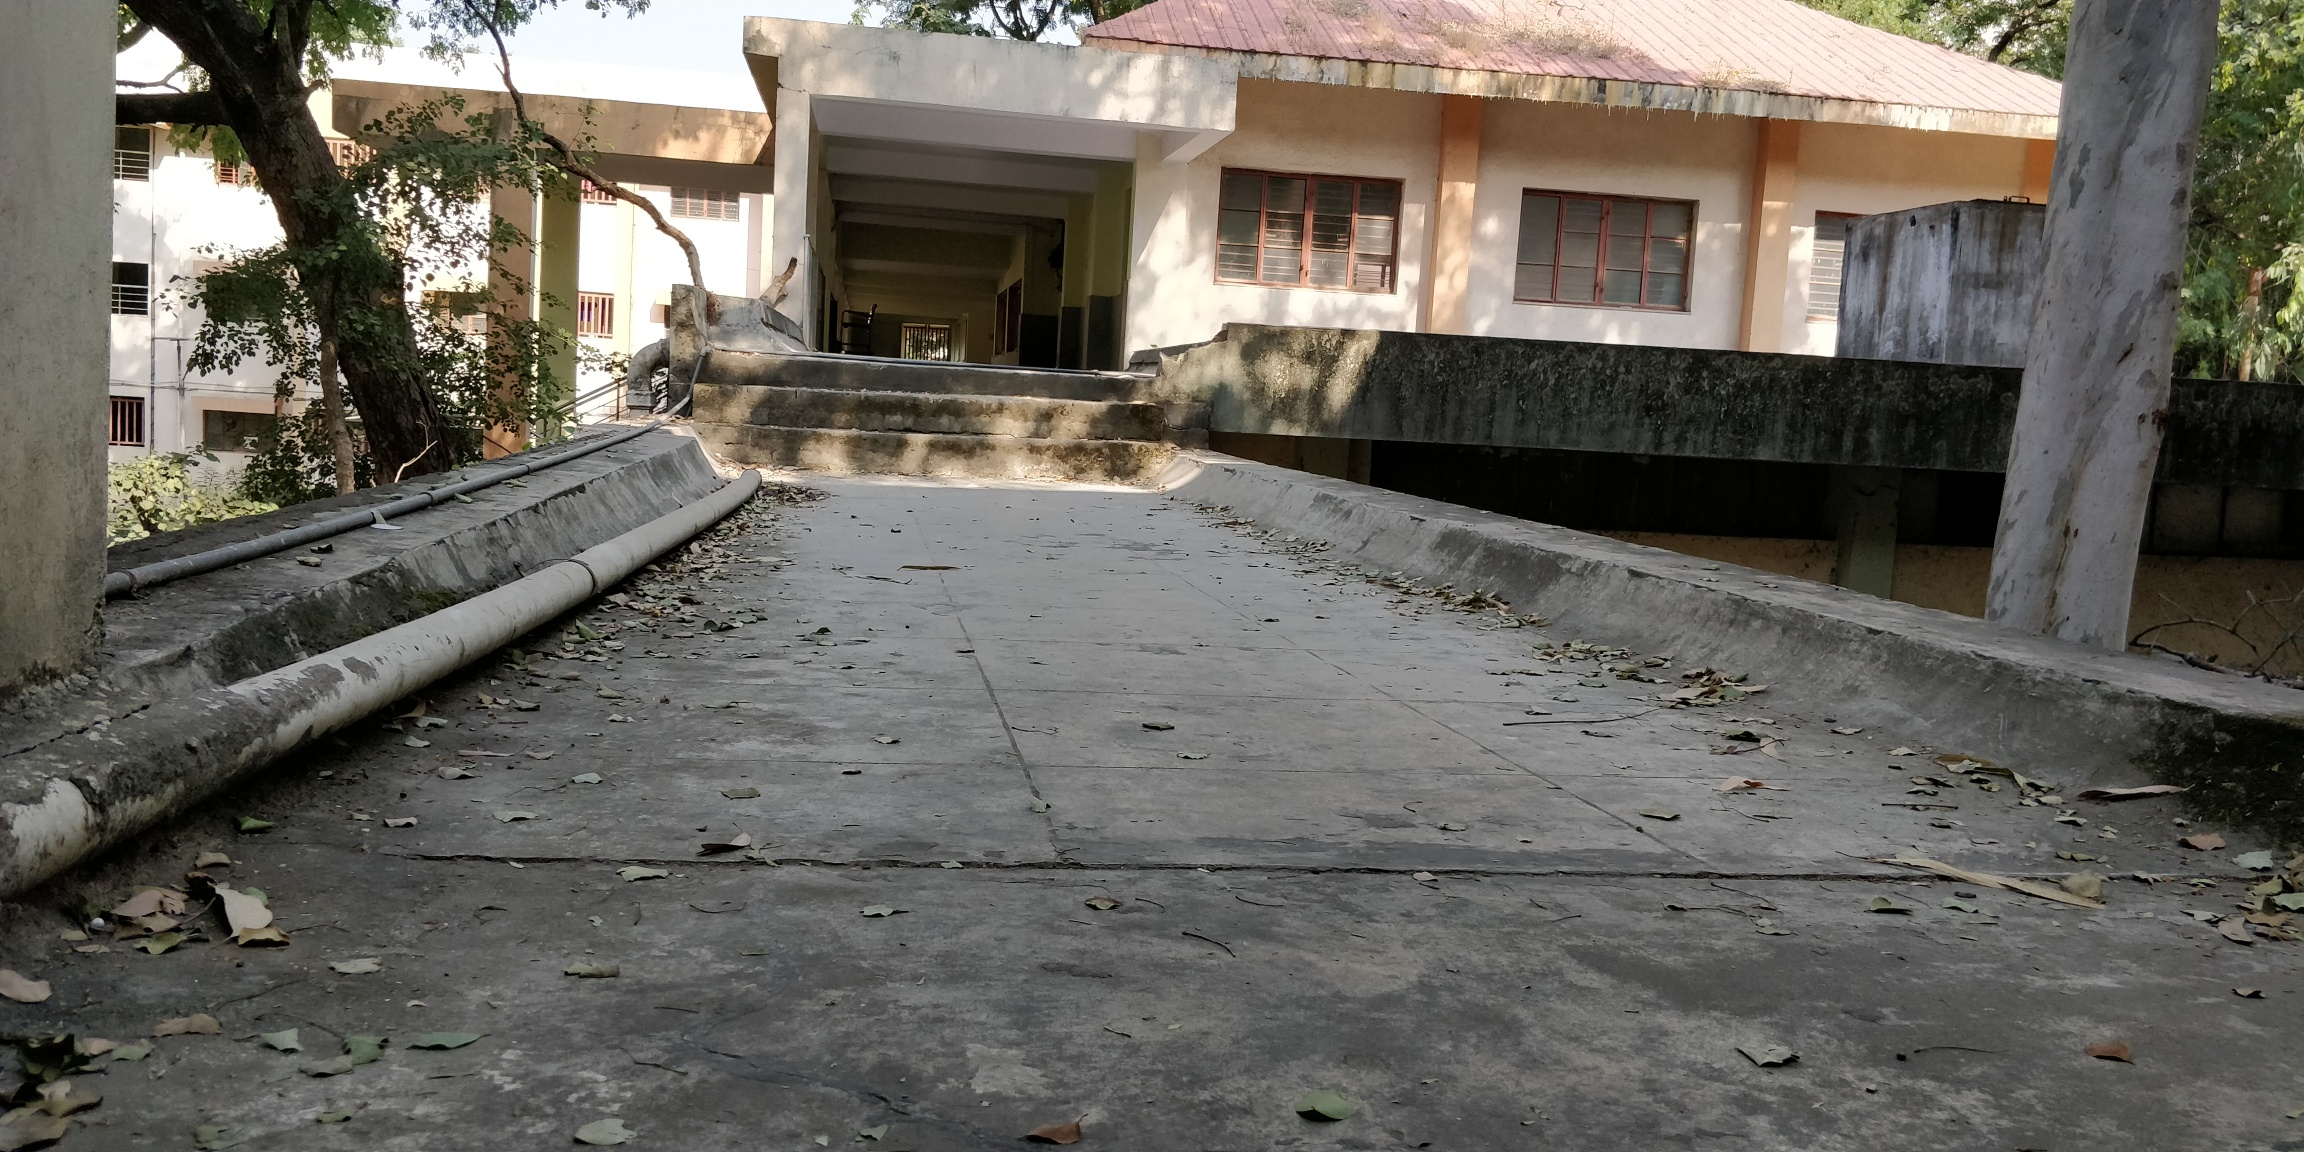stairs_up: (682, 353, 1171, 500)
